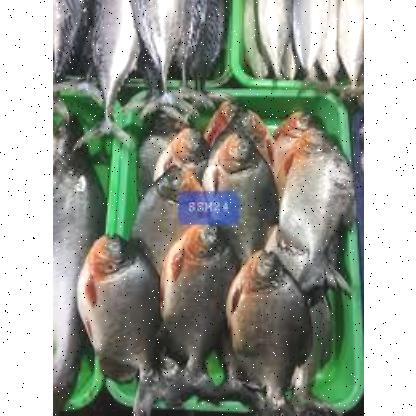ikan-pacu: (77, 232, 159, 396), (282, 126, 356, 294), (228, 250, 298, 408), (163, 223, 227, 389), (201, 136, 269, 256)
